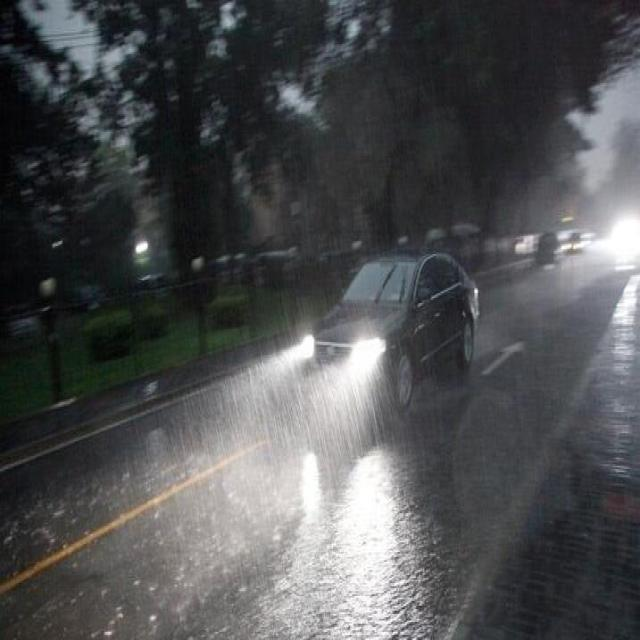car: (298, 246, 479, 407)
